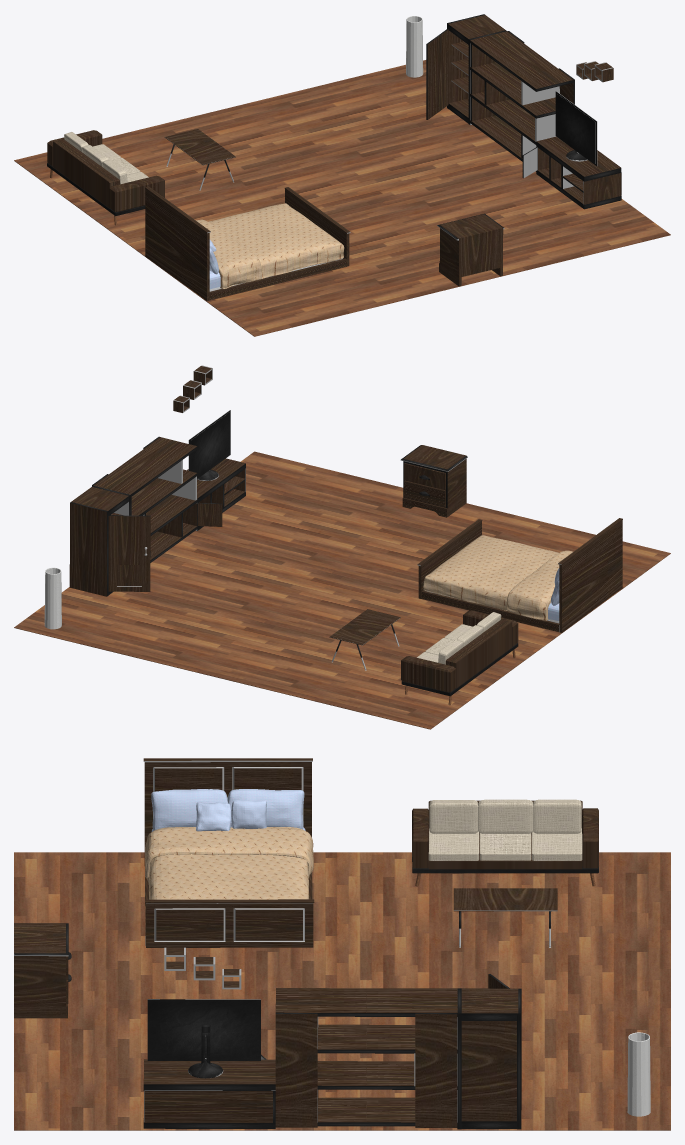
Rendered from T2 Set 2 Pos 3.glb.
The picture shows the model from 3 angles, top to bottom: view 1: azimuth 30°, elevation 25°; view 2: azimuth 150°, elevation 25°; view 3: azimuth 270°, elevation 25°; orthographic projection. The views are drawn at different scales.
Bounding box in the file's own units: 0.2923 × 0.0855 × 0.292.
9 materials, 8 textured.
